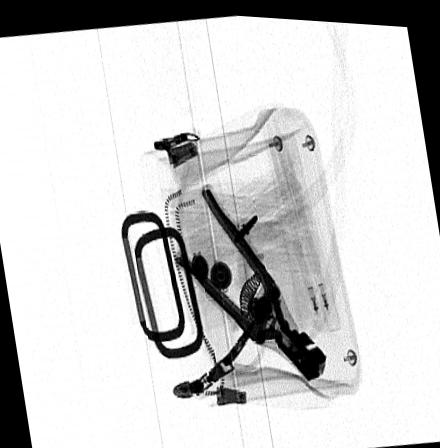Pliers: (174, 180, 328, 377)
